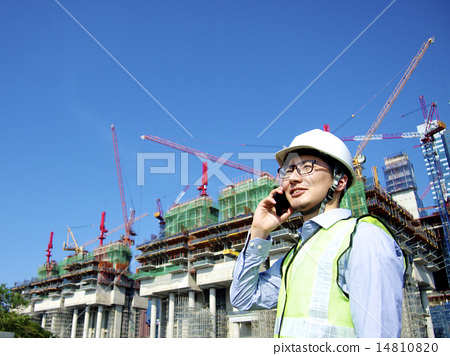phone: (264, 185, 287, 227)
talk: (252, 158, 324, 233)
